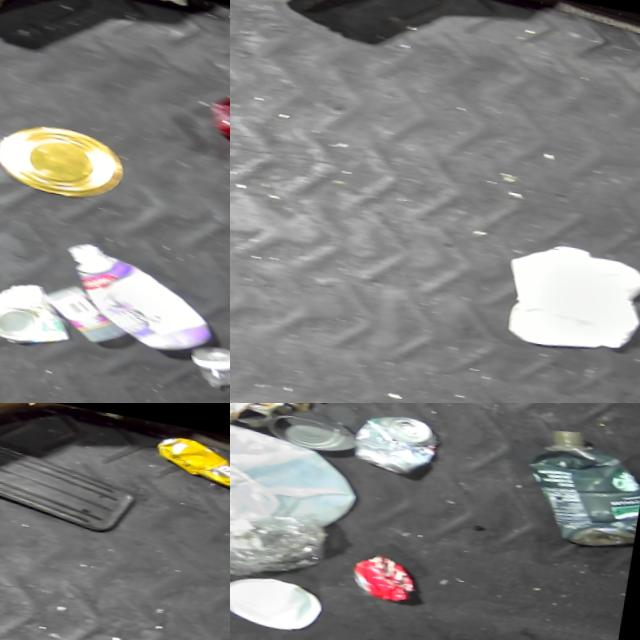can: (0, 110, 130, 198), (352, 403, 443, 474), (0, 269, 80, 348), (151, 424, 230, 486), (266, 403, 360, 451), (351, 544, 424, 601)
milk_jug: (498, 226, 640, 355), (230, 403, 366, 535)
